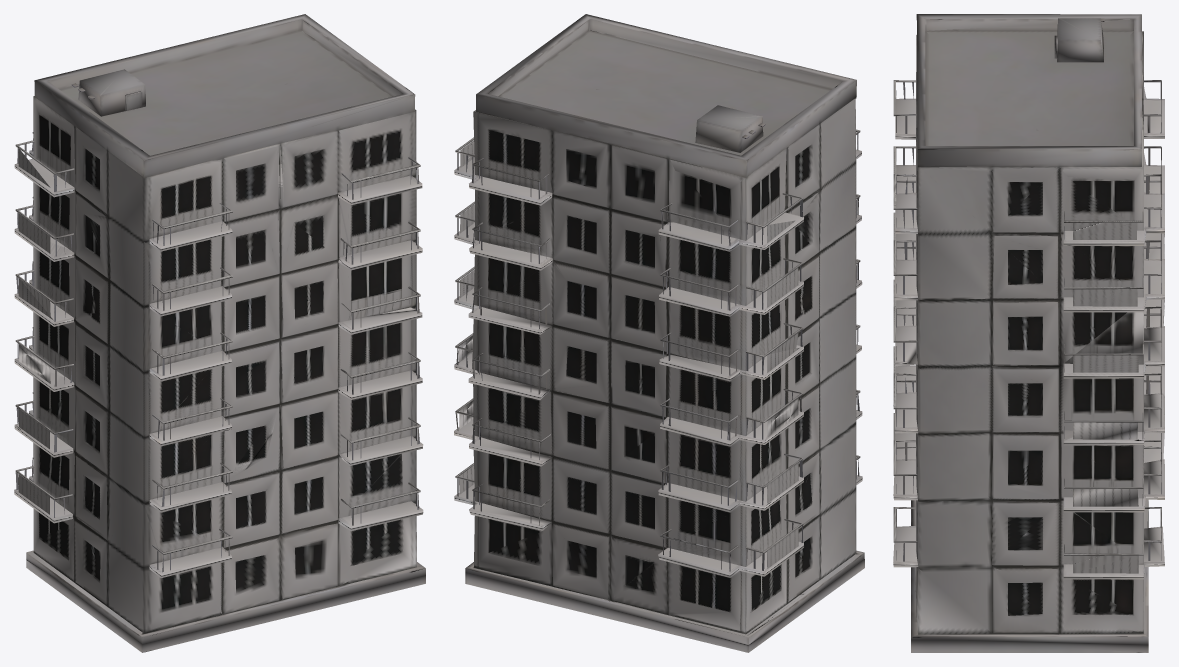
File: 06-apartment-8-floors.glb
3 views of the same model, side by side, from view 1: azimuth 30°, elevation 25°; view 2: azimuth 150°, elevation 25°; view 3: azimuth 270°, elevation 25° (orthographic). The views are drawn at different scales.
Parts seen in each view (by area): view 1: geometry_0; view 2: geometry_0; view 3: geometry_0.
Part boxes in pixels (<box>): geometry_0: <box>14,14,425,652</box>; geometry_0: <box>454,14,864,652</box>; geometry_0: <box>893,14,1164,652</box>.
Size of the model in its own units: 0.6206 by 0.9502 by 0.46.
Materials: 1 (1 with a texture image).
